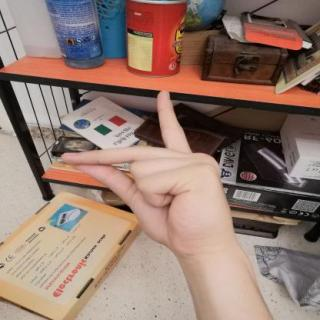TAA: (49, 82, 249, 263)
